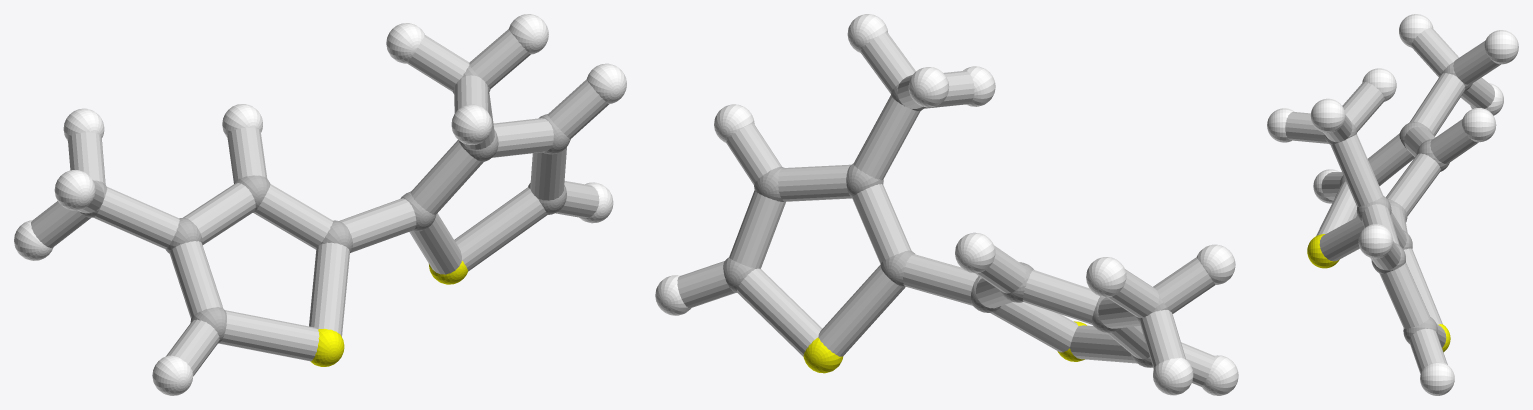
File: color.glb
The picture shows the model from 3 angles, left to right: view 1: azimuth 30°, elevation 25°; view 2: azimuth 150°, elevation 25°; view 3: azimuth 270°, elevation 25°; orthographic projection. The views are drawn at different scales.
Visible parts, largest first — view 1: grp7965, grp3621, grp1, grp7241; view 2: grp7965, grp3621, grp1, grp7241; view 3: grp7965, grp3621, grp1, grp7241.
Part boxes in pixels (box(x1,y1,x2,y2)): grp7965: box(31, 29, 609, 375); grp3621: box(14, 14, 626, 395); grp1: box(80, 66, 570, 343); grp7241: box(310, 261, 468, 366); grp7965: box(677, 32, 1214, 386); grp3621: box(655, 14, 1238, 395); grp1: box(723, 84, 1167, 367); grp7241: box(803, 321, 1086, 373); grp7965: box(1285, 27, 1500, 373); grp3621: box(1267, 14, 1518, 395); grp1: box(1324, 62, 1472, 343); grp7241: box(1307, 234, 1450, 352).
Bounding box in the file's own units: 9.57 × 4.98 × 4.35.
